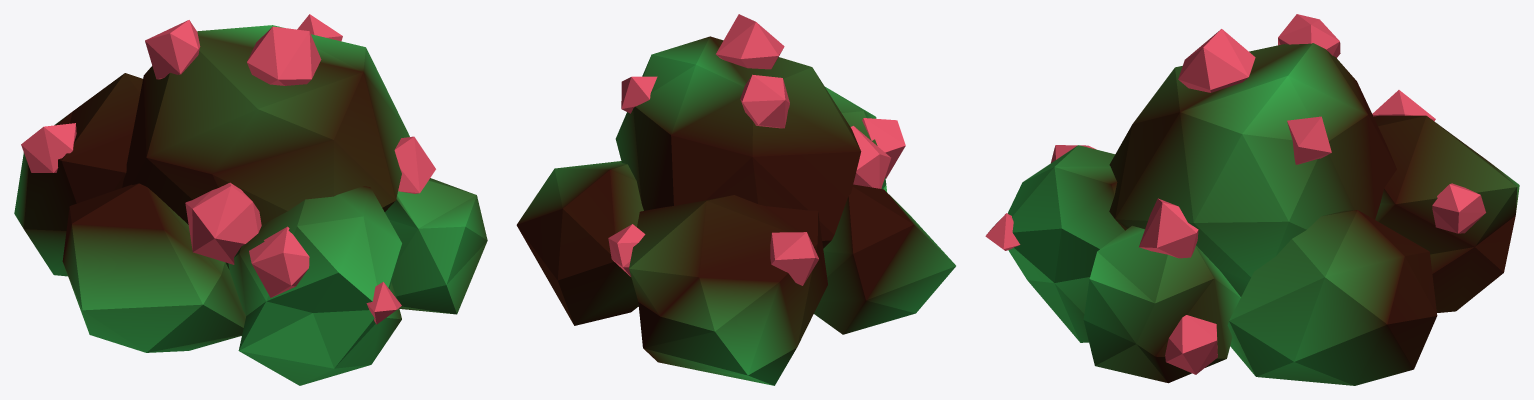
The model's file is bush3.fbx.
3 views of the same model, side by side, from view 1: azimuth 30°, elevation 25°; view 2: azimuth 150°, elevation 25°; view 3: azimuth 270°, elevation 25° (orthographic). The views are drawn at different scales.
Parts seen in each view (by area): view 1: Icosphere.008; view 2: Icosphere.008; view 3: Icosphere.008.
Boxes of the visible parts, bbox=[...] form: Icosphere.008: bbox=[14, 14, 487, 385]; Icosphere.008: bbox=[516, 14, 955, 385]; Icosphere.008: bbox=[985, 14, 1519, 385].
Size of the model in its own units: 284 by 222 by 338.
